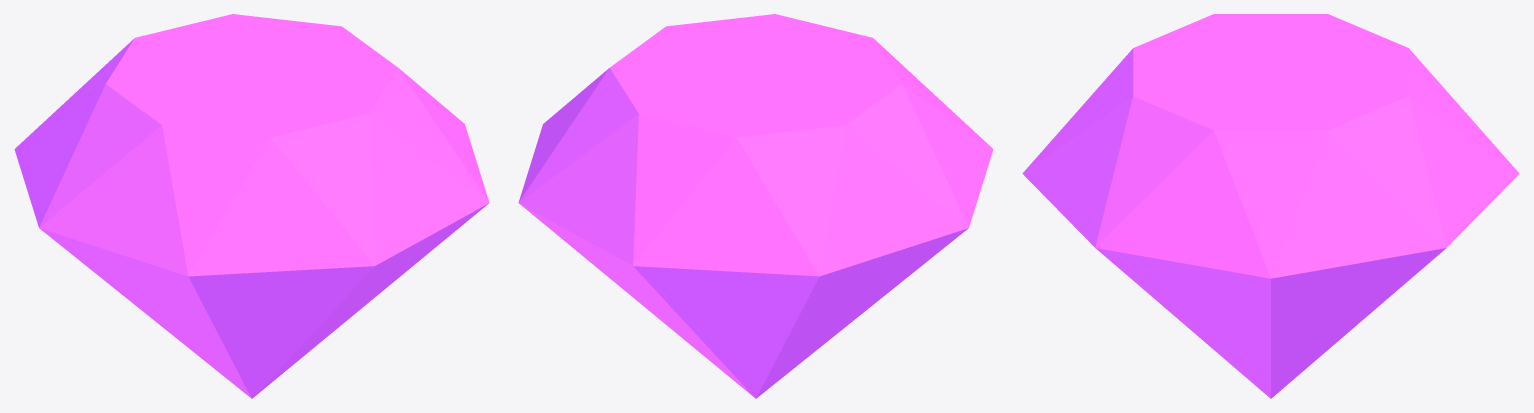
File: gem_amethyst_regular.glb
The picture shows the model from 3 angles, left to right: view 1: azimuth 30°, elevation 25°; view 2: azimuth 150°, elevation 25°; view 3: azimuth 270°, elevation 25°; orthographic projection.
Visible parts, largest first — view 1: gem_amethyst_3; view 2: gem_amethyst_3; view 3: gem_amethyst_3.
Part boxes in pixels (box(x1,y1,x2,y2)): gem_amethyst_3: box(14, 14, 489, 398); gem_amethyst_3: box(518, 14, 993, 398); gem_amethyst_3: box(1022, 14, 1519, 398).
Size of the model in its own units: 0.09 by 0.0653 by 0.09.
